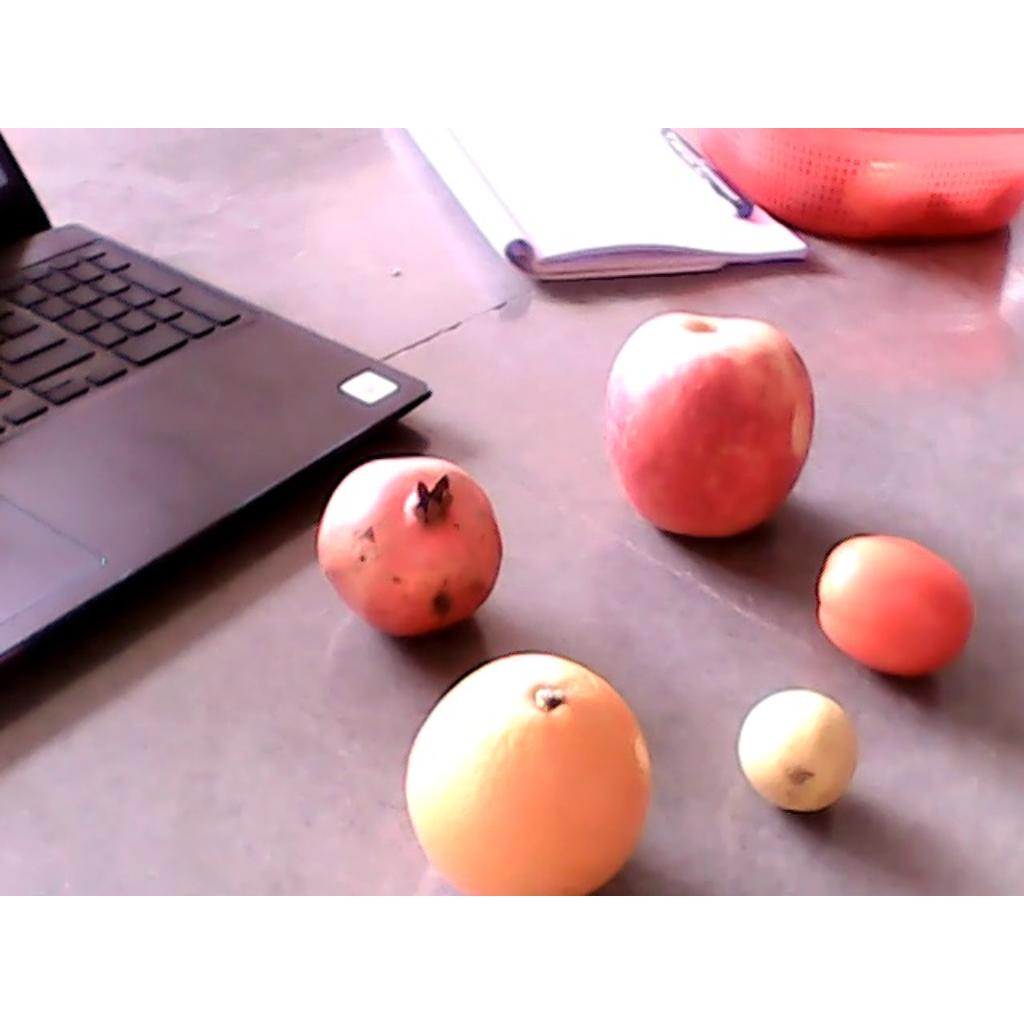apple: (607, 312, 819, 540)
lemon: (737, 685, 855, 811)
orange: (405, 655, 656, 888)
pomegranate: (317, 457, 501, 634)
tomato: (817, 533, 972, 675)
